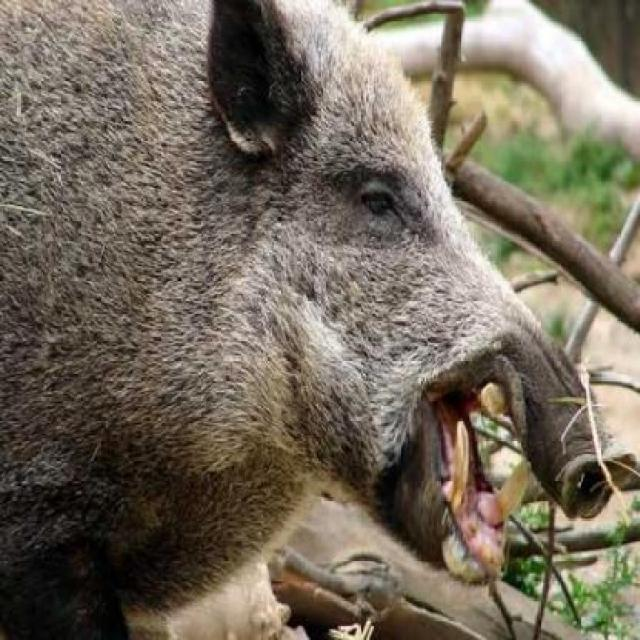pig: (70, 0, 639, 638)
